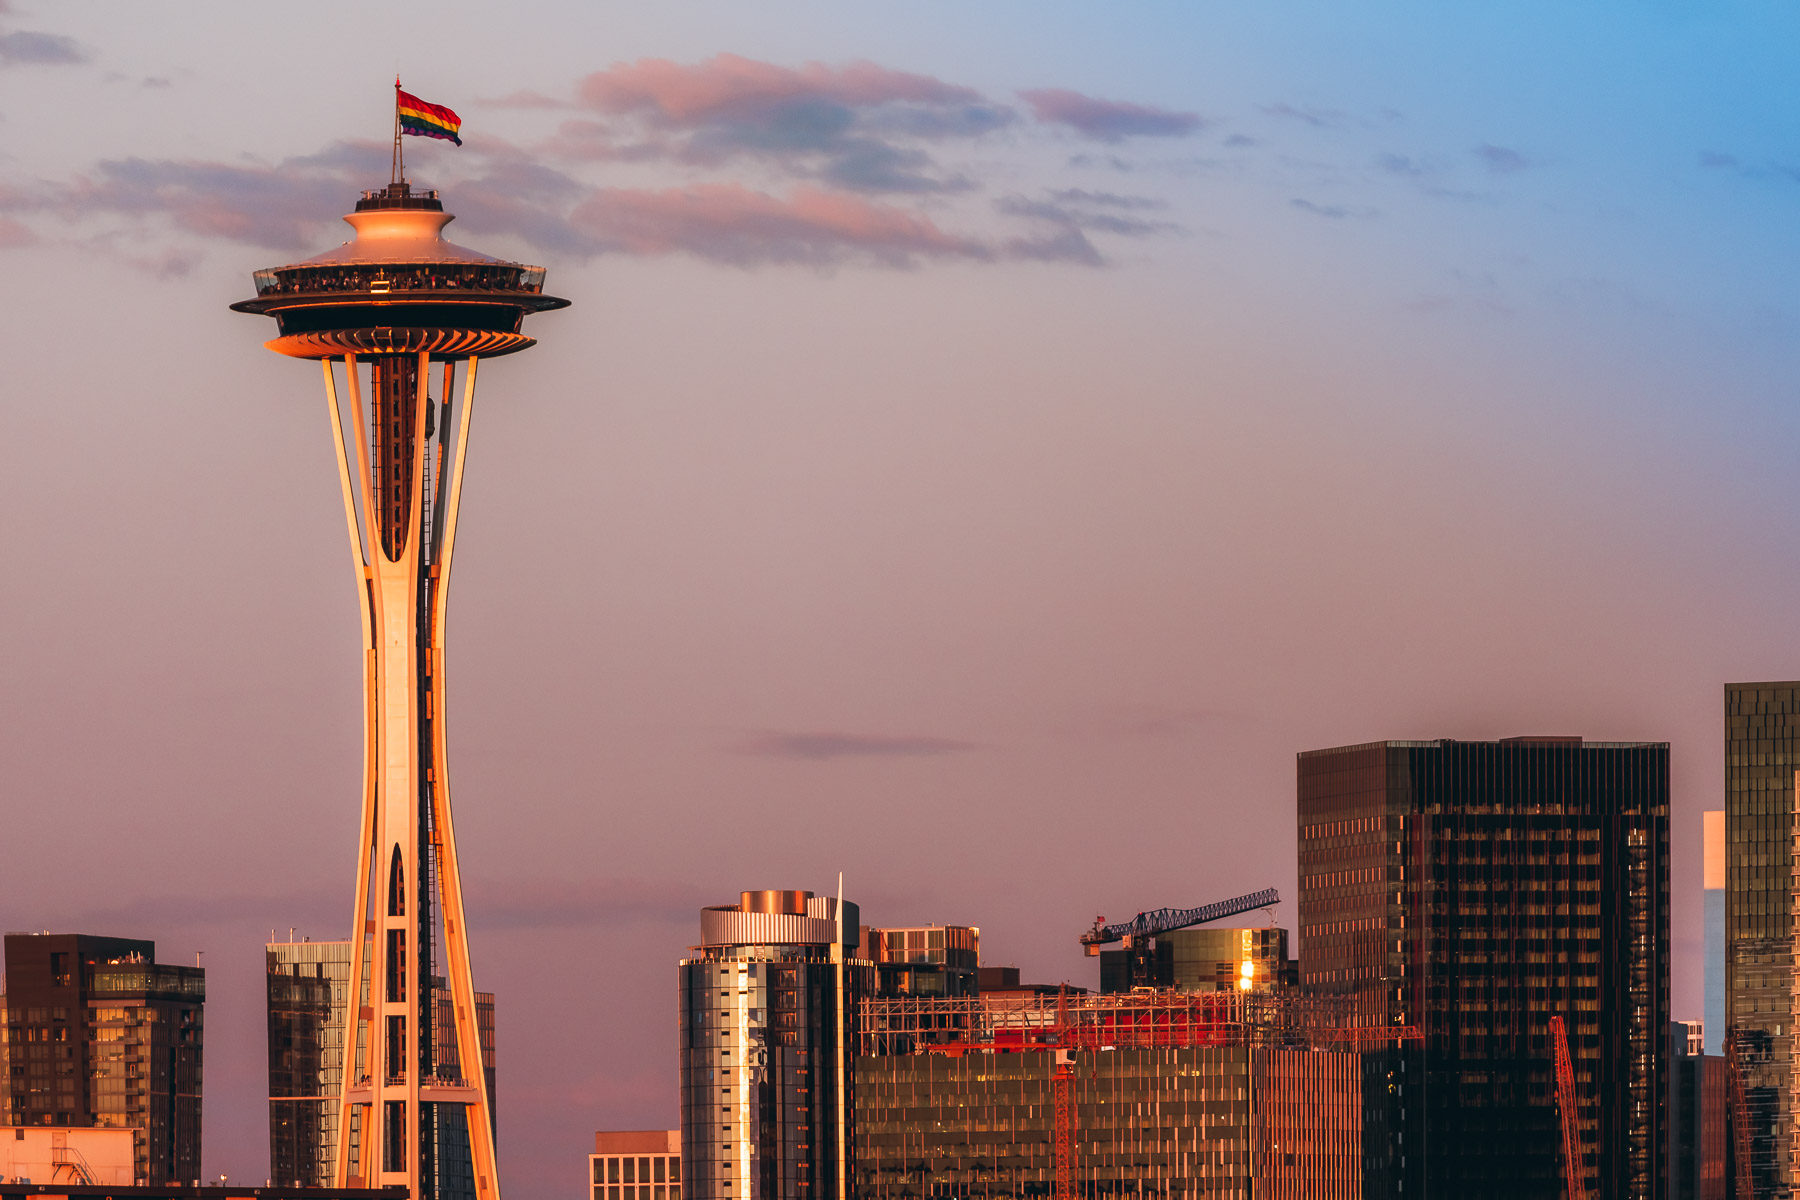Flag: (396, 90, 463, 150)
